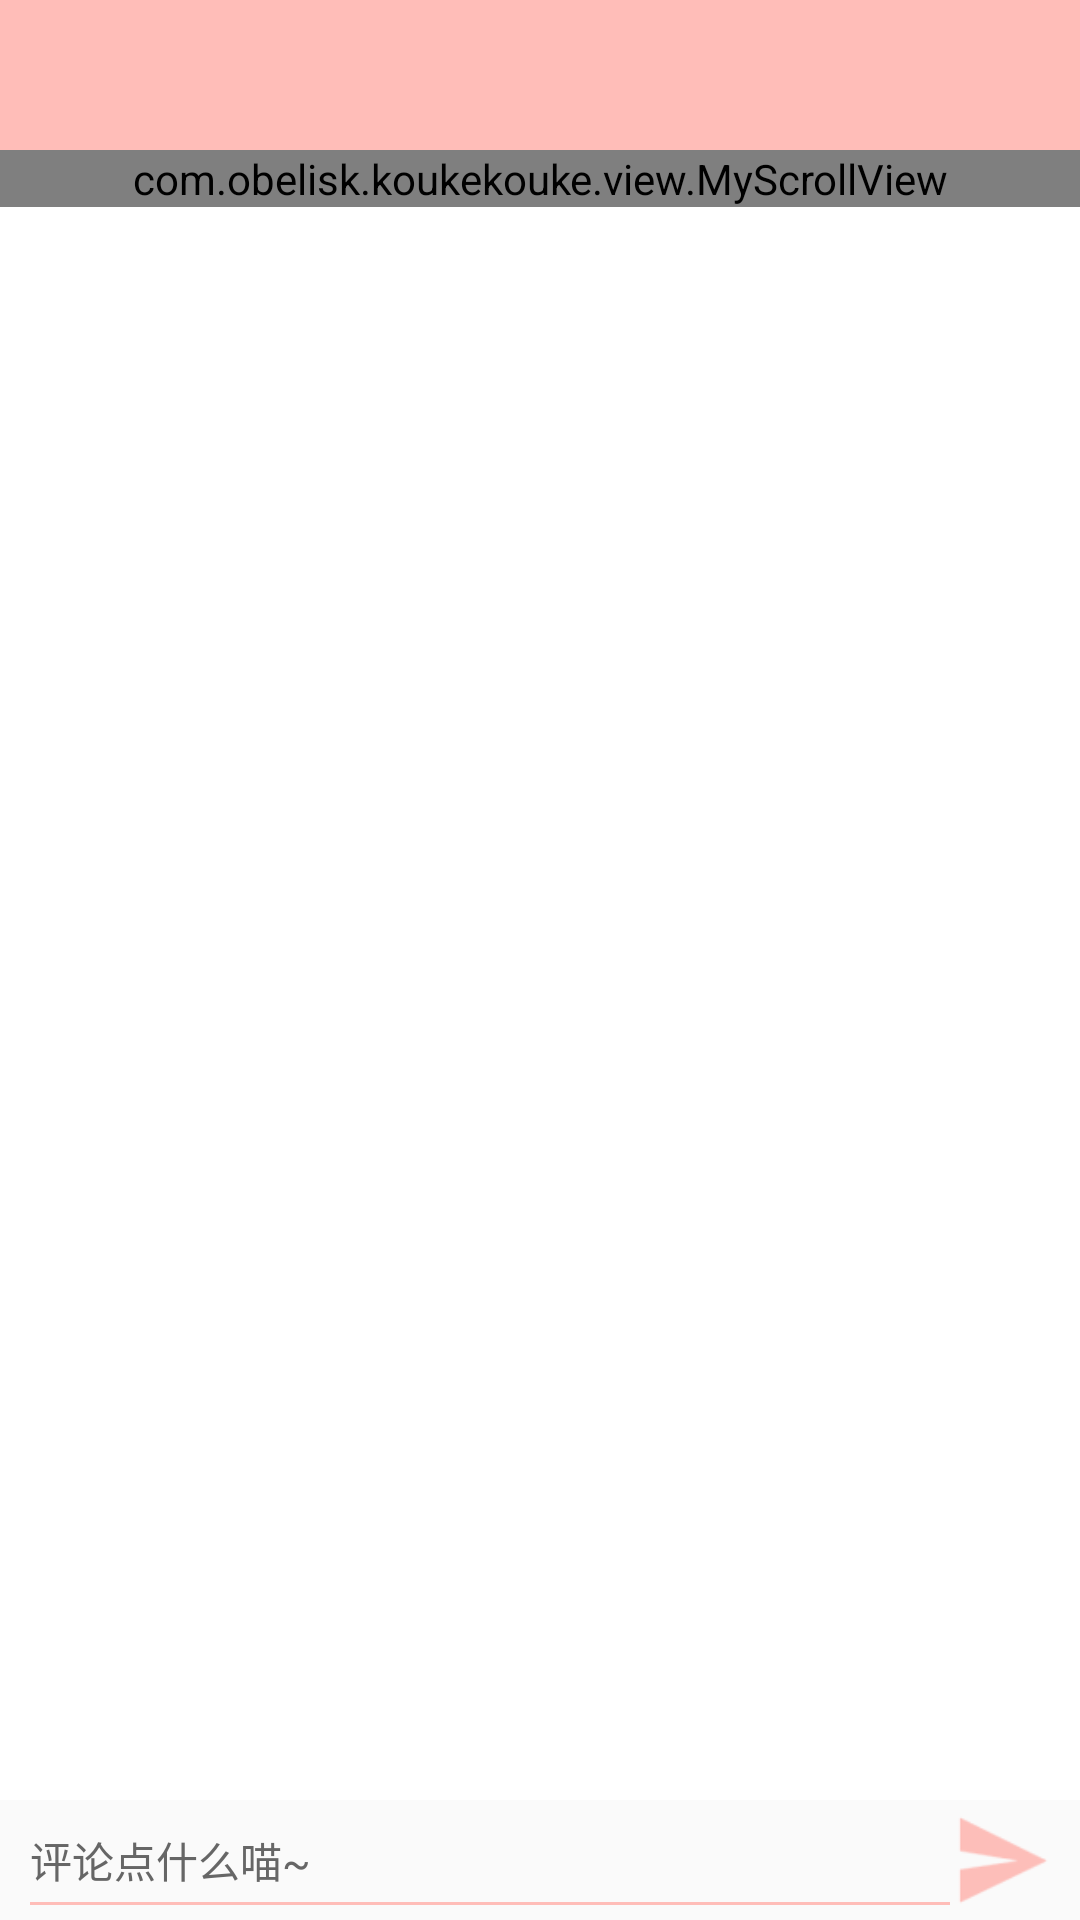

Point at icon controls on the screen. Image size 1080w x 1920h, points as (x,y).
send: (1003,1860)
